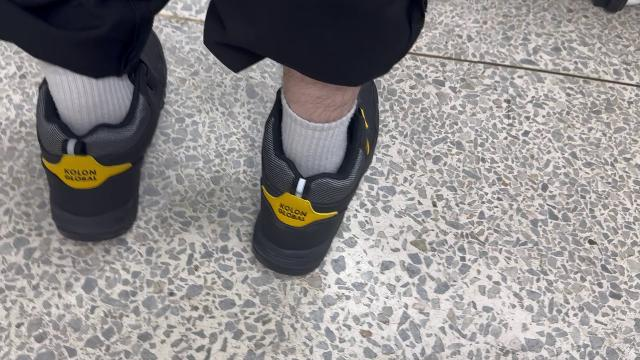shoe_worn: (38, 26, 171, 248), (252, 69, 385, 279)
